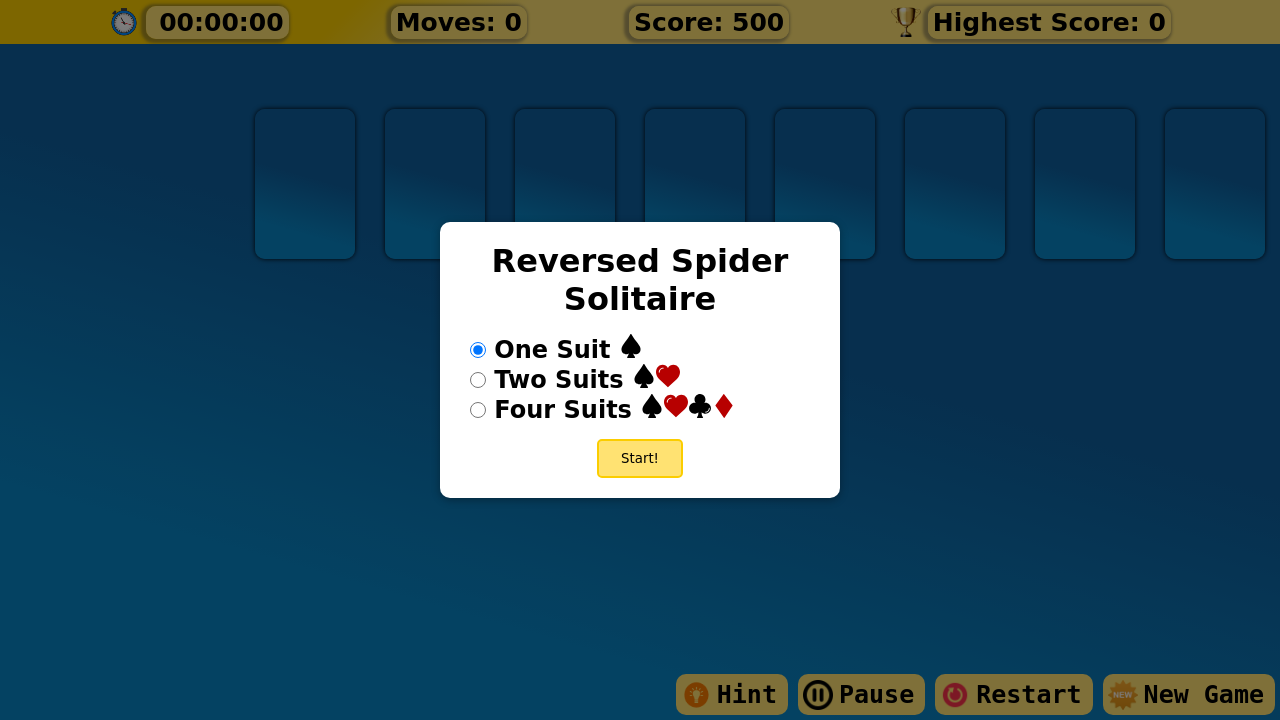
Scenario: actions-tests › should start a new game
The image size is (1280, 720).
Step 1. Click the button with class "button--newGame" → [640, 459], box [597,439,683,478]
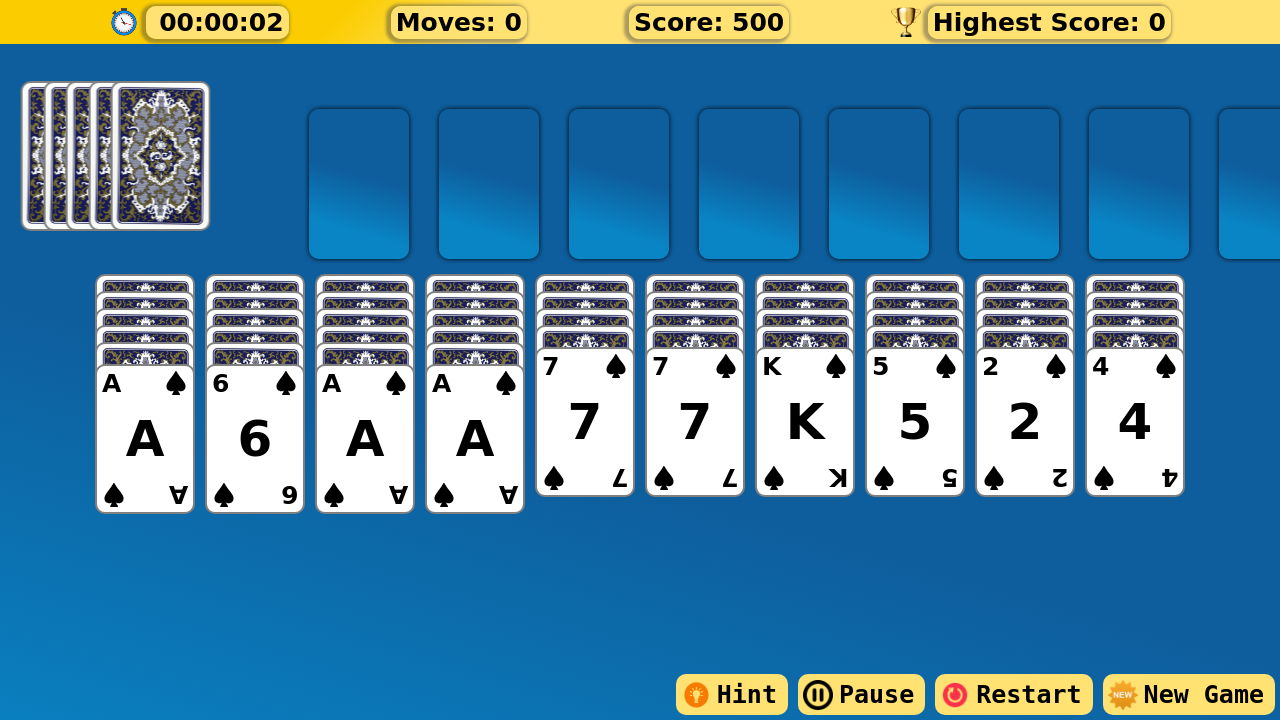
Result: the text "00:00:02" is shown at [146,6,289,38]
Step 2. Click the element with class "new-game" → [1189, 695], box [1103,674,1275,715]
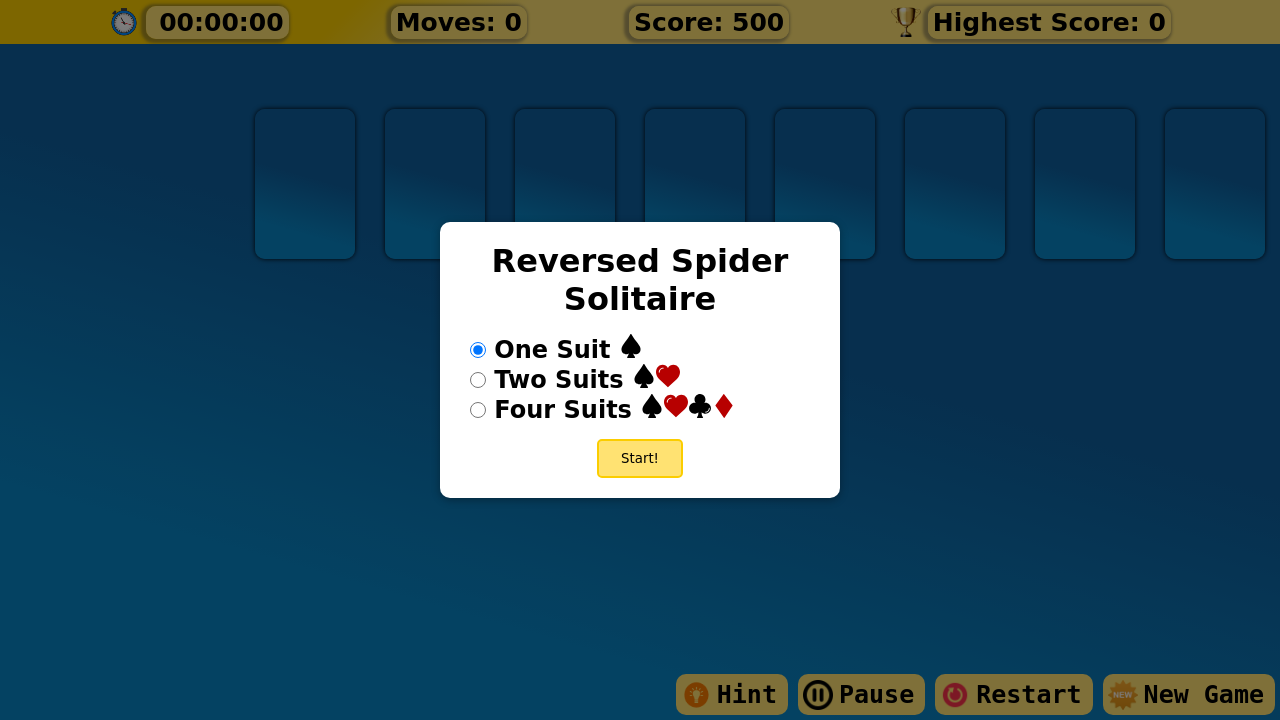
Result: the element with class "modal__mask" is shown
